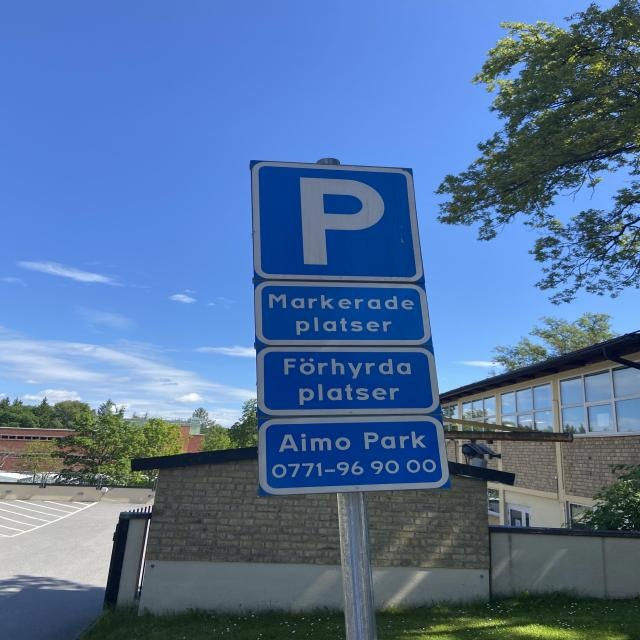P-skylt: (246, 158, 428, 284)
